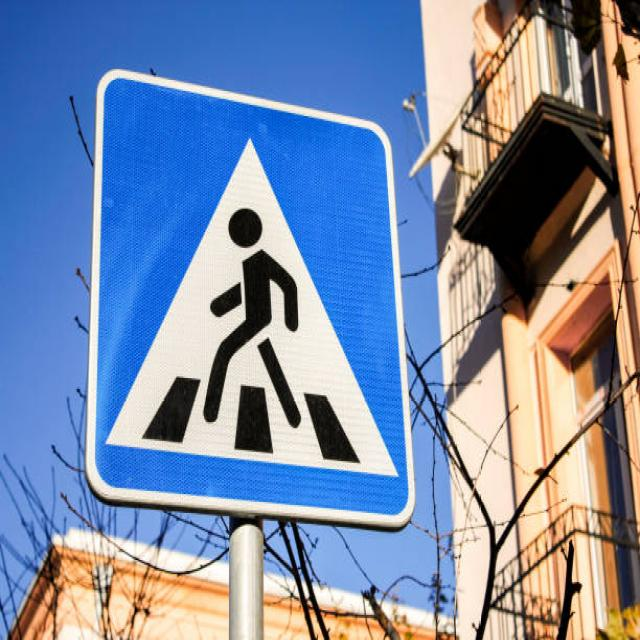crosswalk: (72, 58, 420, 538)
